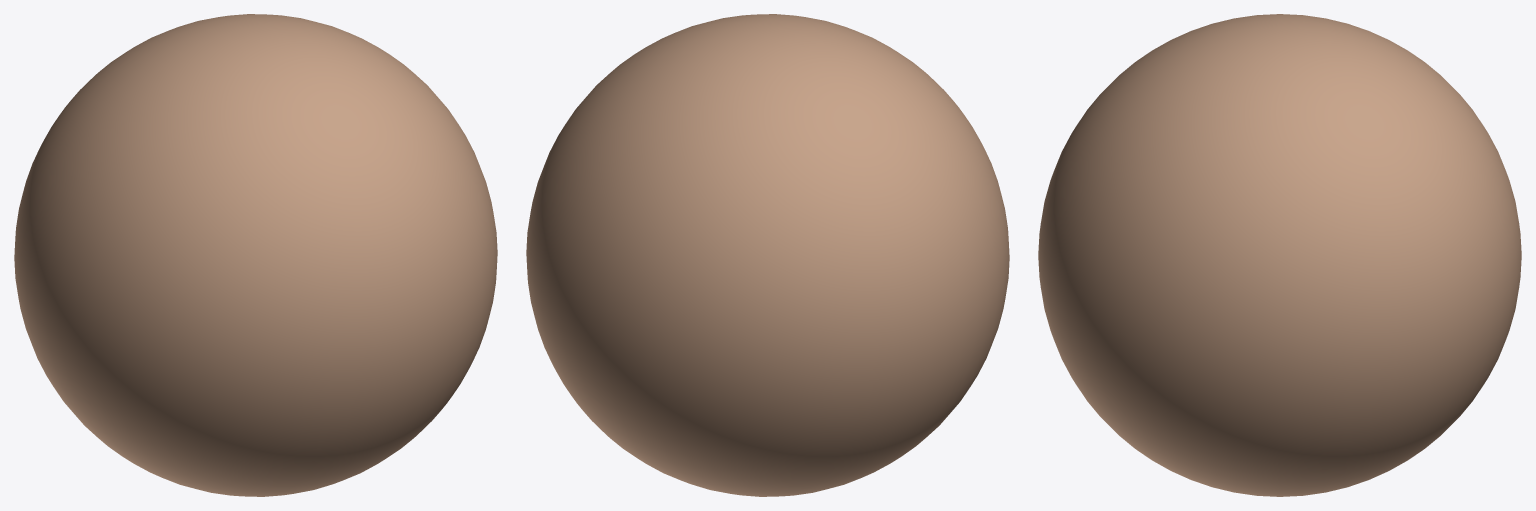
File: Bubble.fbx
3 renders of one model, left to right at view 1: azimuth 30°, elevation 25°; view 2: azimuth 150°, elevation 25°; view 3: azimuth 270°, elevation 25°, orthographic.
Parts seen in each view (by area): view 1: Bubble; view 2: Bubble; view 3: Bubble.
Part boxes in pixels (x1,y1,x2,y2): Bubble: [14, 14, 497, 496]; Bubble: [526, 14, 1009, 496]; Bubble: [1038, 14, 1521, 496].
Bounding box in the file's own units: 6.7 × 6.7 × 6.7.
